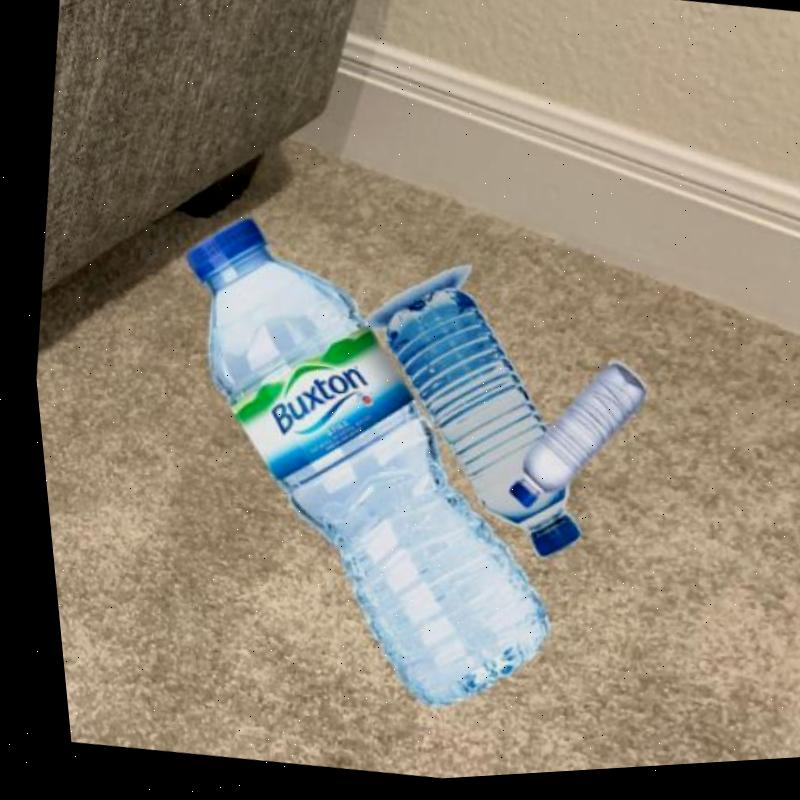botella: (105, 195, 599, 733), (340, 280, 603, 574), (490, 353, 648, 526)
